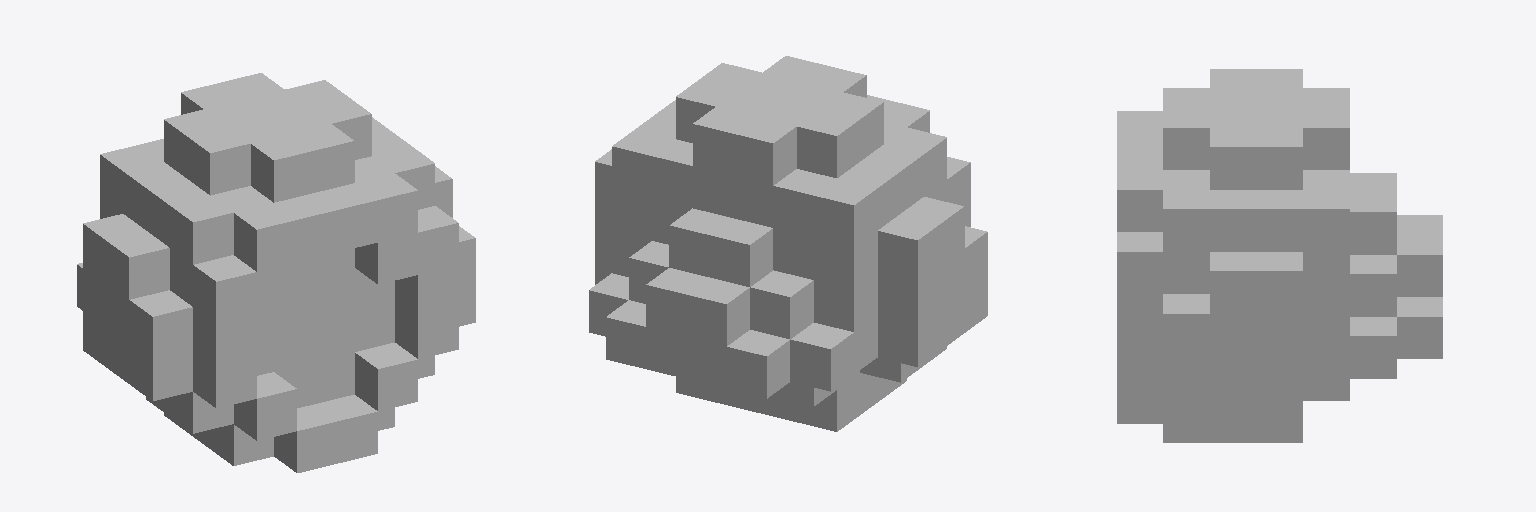
Rendered from Octo guy 2.obj.
3 renders of one model, left to right at view 1: azimuth 30°, elevation 25°; view 2: azimuth 150°, elevation 25°; view 3: azimuth 270°, elevation 25°, orthographic.
Bounding box in the file's own units: 8 × 7 × 7.